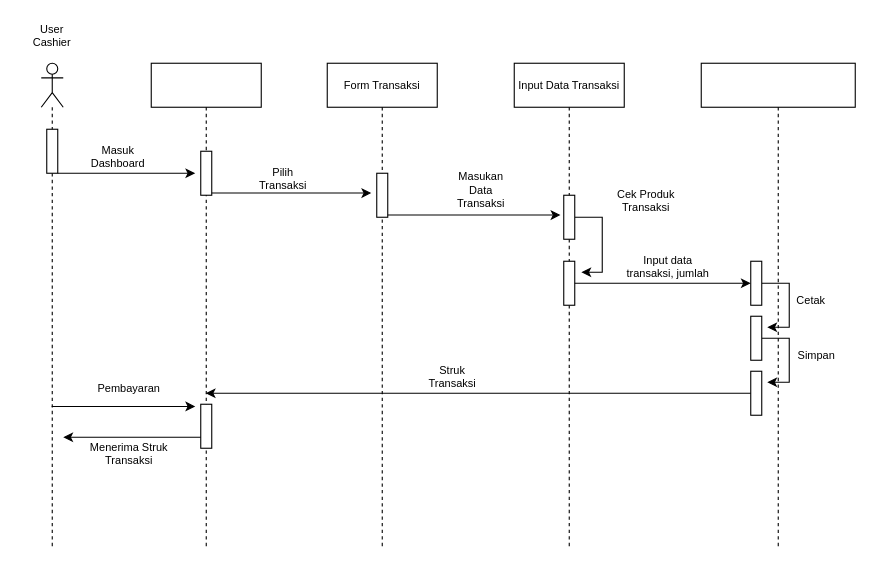
Image size: 875x567. Some labels were removed from this diagram. Each missing label, with the box of its shape:
Dashboard Cashier: (150, 62, 261, 547)
Transaksi: (700, 62, 855, 547)
